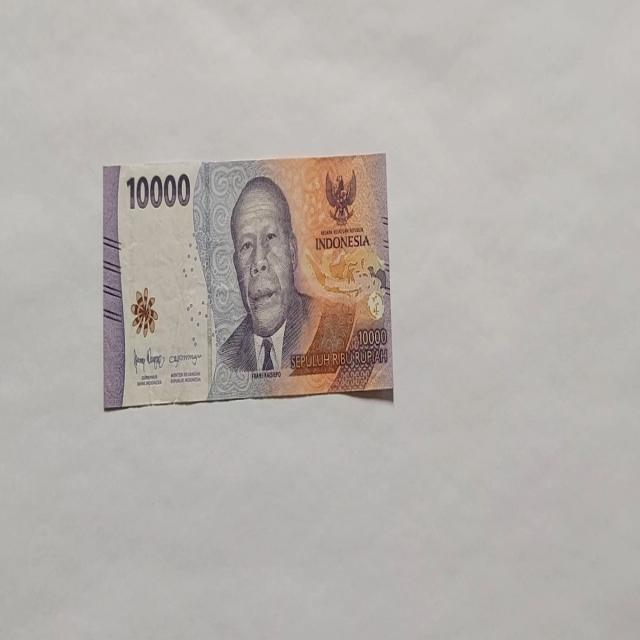sepuluh ribu rupiah: (102, 152, 394, 410), (205, 172, 355, 398)
